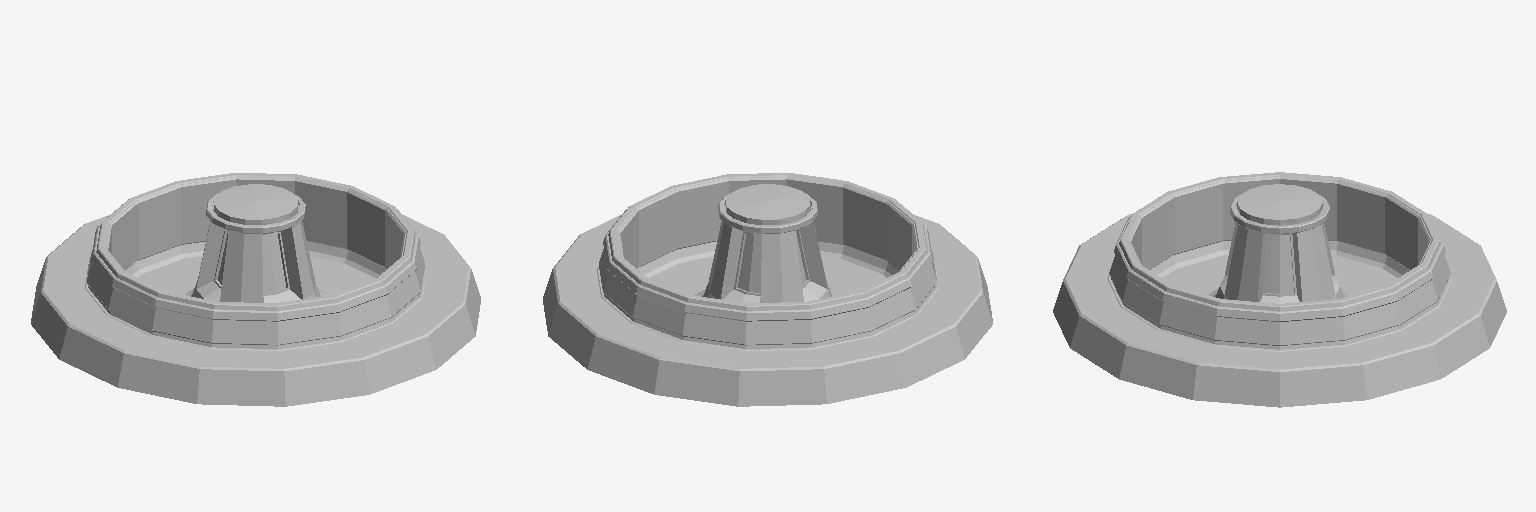
Rendered from StoneFountain.obj.
3 views of the same model, side by side, from view 1: azimuth 30°, elevation 25°; view 2: azimuth 150°, elevation 25°; view 3: azimuth 270°, elevation 25° (orthographic).
Visible parts, largest first — view 1: Fountain_Cylinder.001; view 2: Fountain_Cylinder.001; view 3: Fountain_Cylinder.001.
Part boxes in pixels (x1,y1,x2,y2): Fountain_Cylinder.001: (31, 173, 480, 406); Fountain_Cylinder.001: (543, 173, 992, 406); Fountain_Cylinder.001: (1053, 172, 1506, 407).
Bounding box in the file's own units: 0.5699 × 0.1536 × 0.5699.